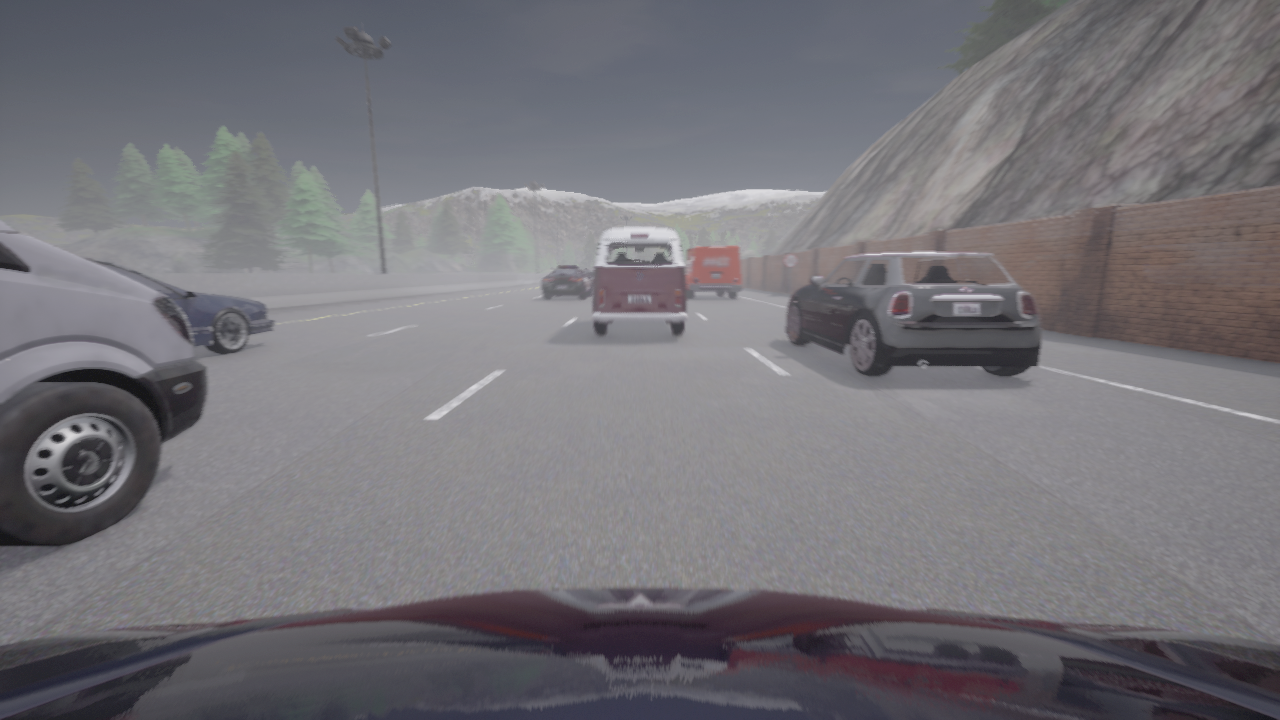cyclist: (0, 588, 1279, 719), (787, 252, 1041, 377), (87, 259, 275, 354), (592, 228, 687, 335), (683, 247, 742, 297), (542, 266, 592, 299), (583, 269, 594, 286)
